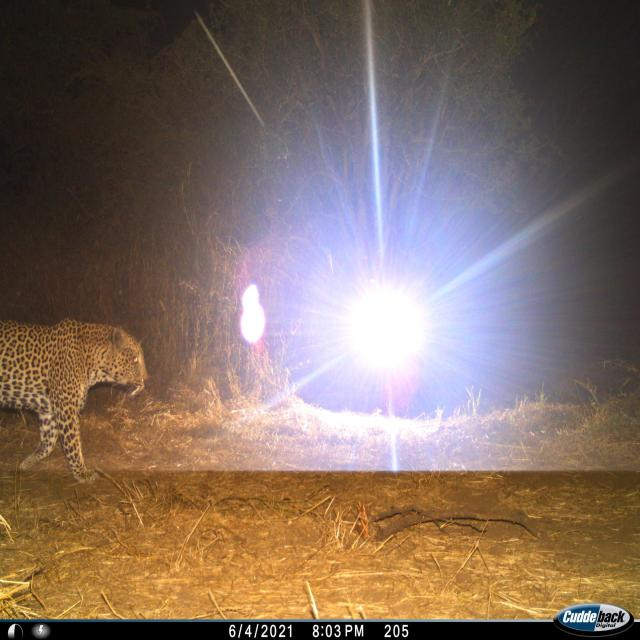Leopard: (0, 295, 141, 503)
